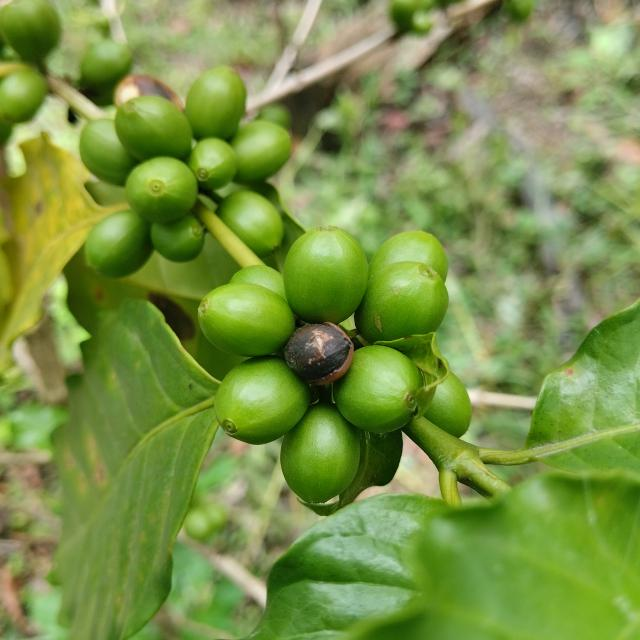green: (214, 356, 310, 445), (283, 226, 369, 324), (333, 345, 424, 434), (280, 403, 360, 503), (355, 261, 449, 343), (198, 282, 295, 357), (114, 95, 192, 160), (125, 156, 198, 223), (84, 209, 152, 278), (216, 190, 284, 258), (184, 65, 246, 139), (79, 118, 138, 185), (369, 231, 448, 281), (230, 120, 291, 182), (0, 0, 60, 61), (79, 39, 132, 105), (425, 372, 472, 438), (187, 137, 237, 190), (150, 214, 204, 262), (0, 68, 46, 122), (230, 265, 287, 302)
red: (283, 322, 354, 386), (113, 74, 184, 110)
